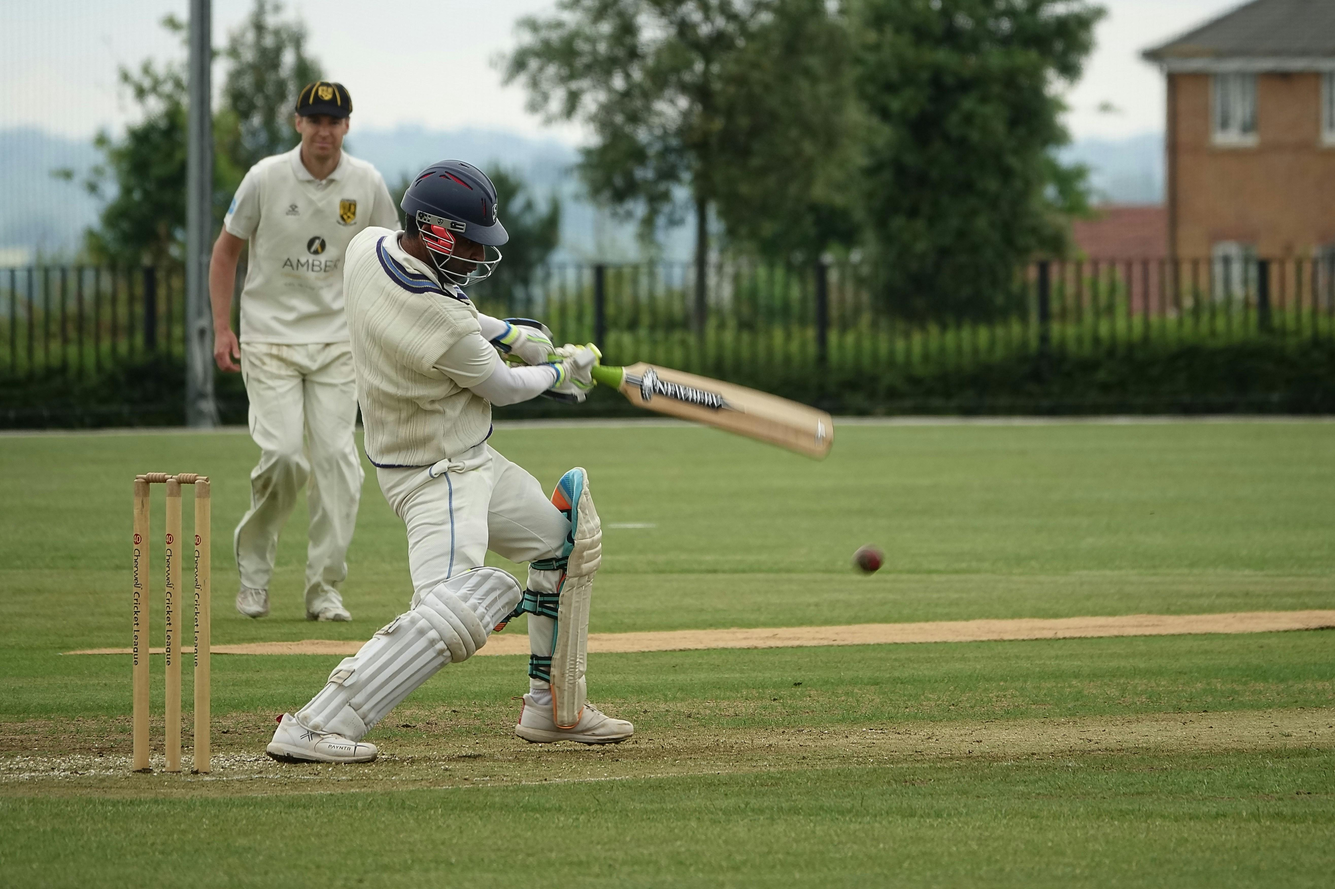batsman: (284, 176, 644, 791)
